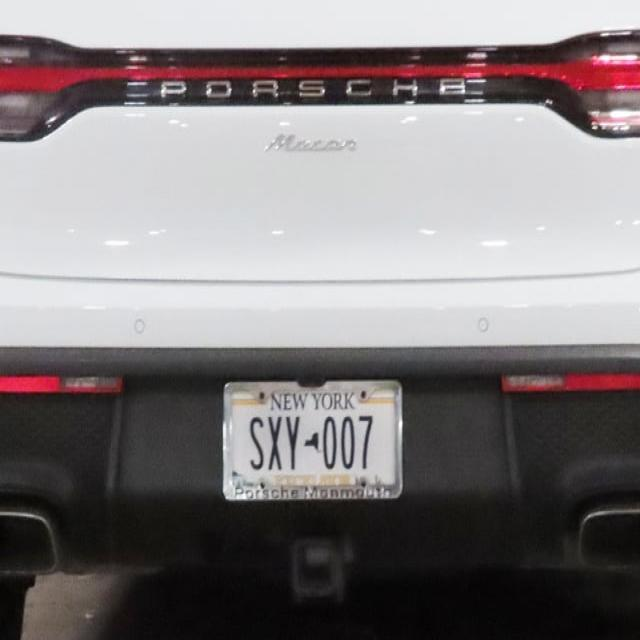Plat: (221, 379, 405, 502)
